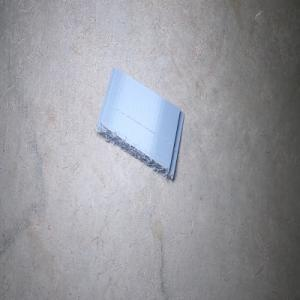PlasticPart: (96, 67, 184, 181)
